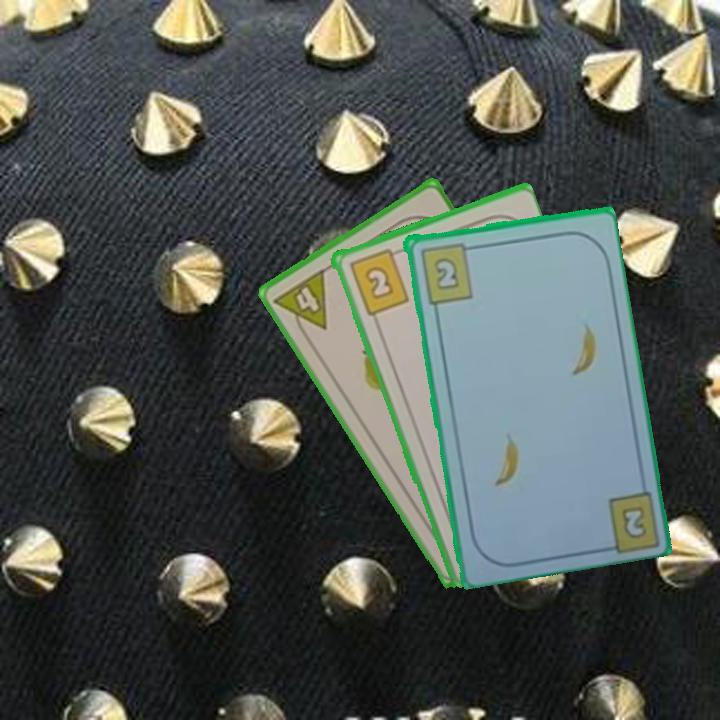2b: (345, 245, 412, 318), (416, 239, 478, 306), (617, 502, 647, 541)
4p: (269, 265, 330, 344)
